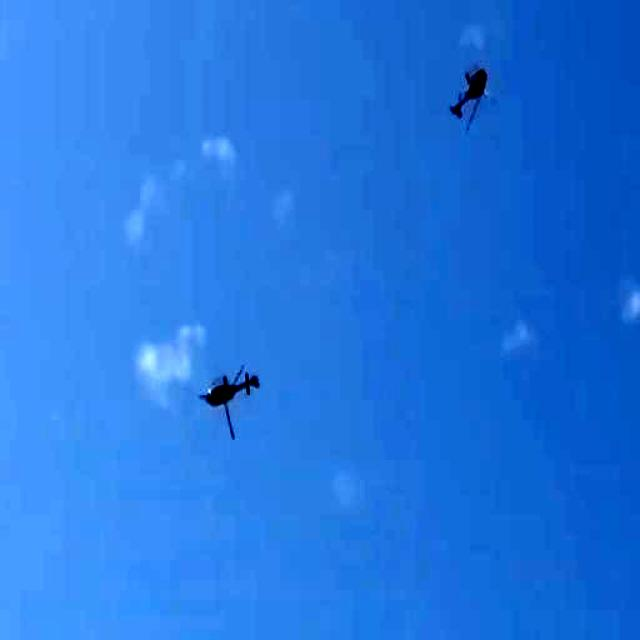drone: (192, 348, 259, 436), (448, 55, 491, 134)
